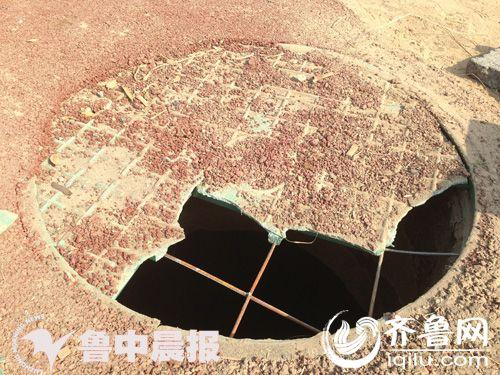wellcover: (26, 39, 476, 350)
